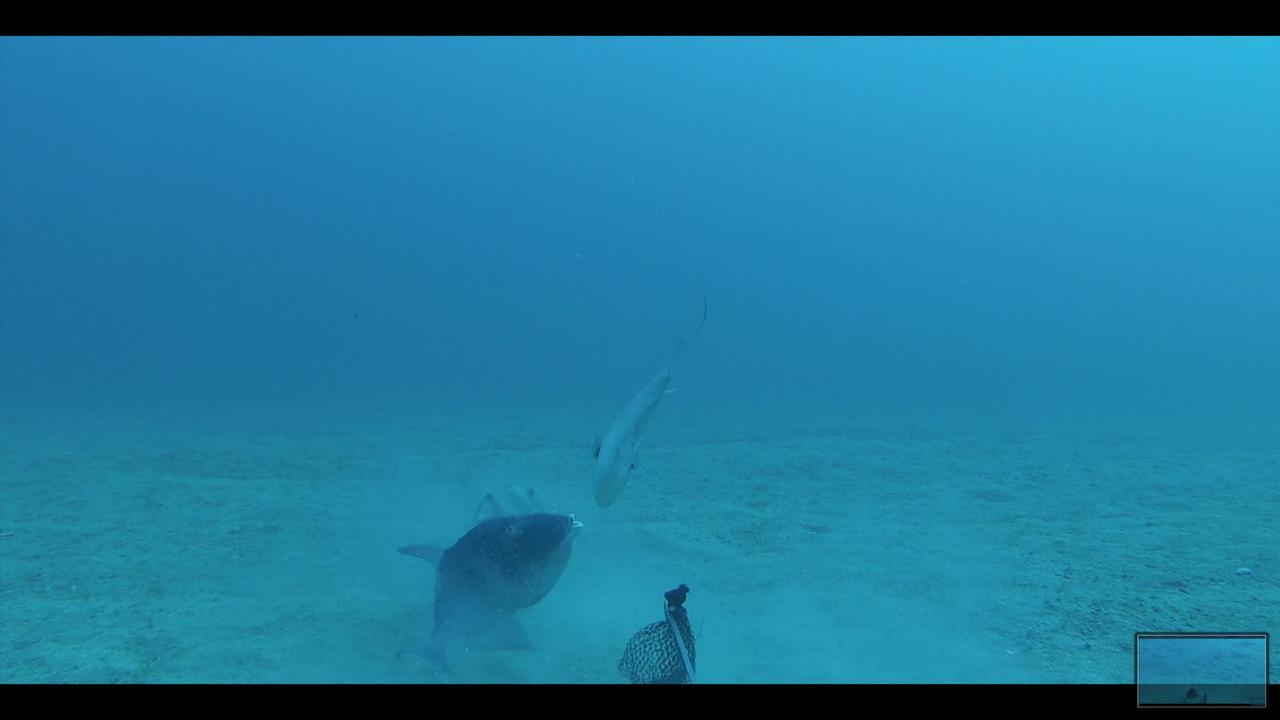balistes: (387, 506, 580, 674), (581, 292, 708, 509), (465, 479, 558, 525)
